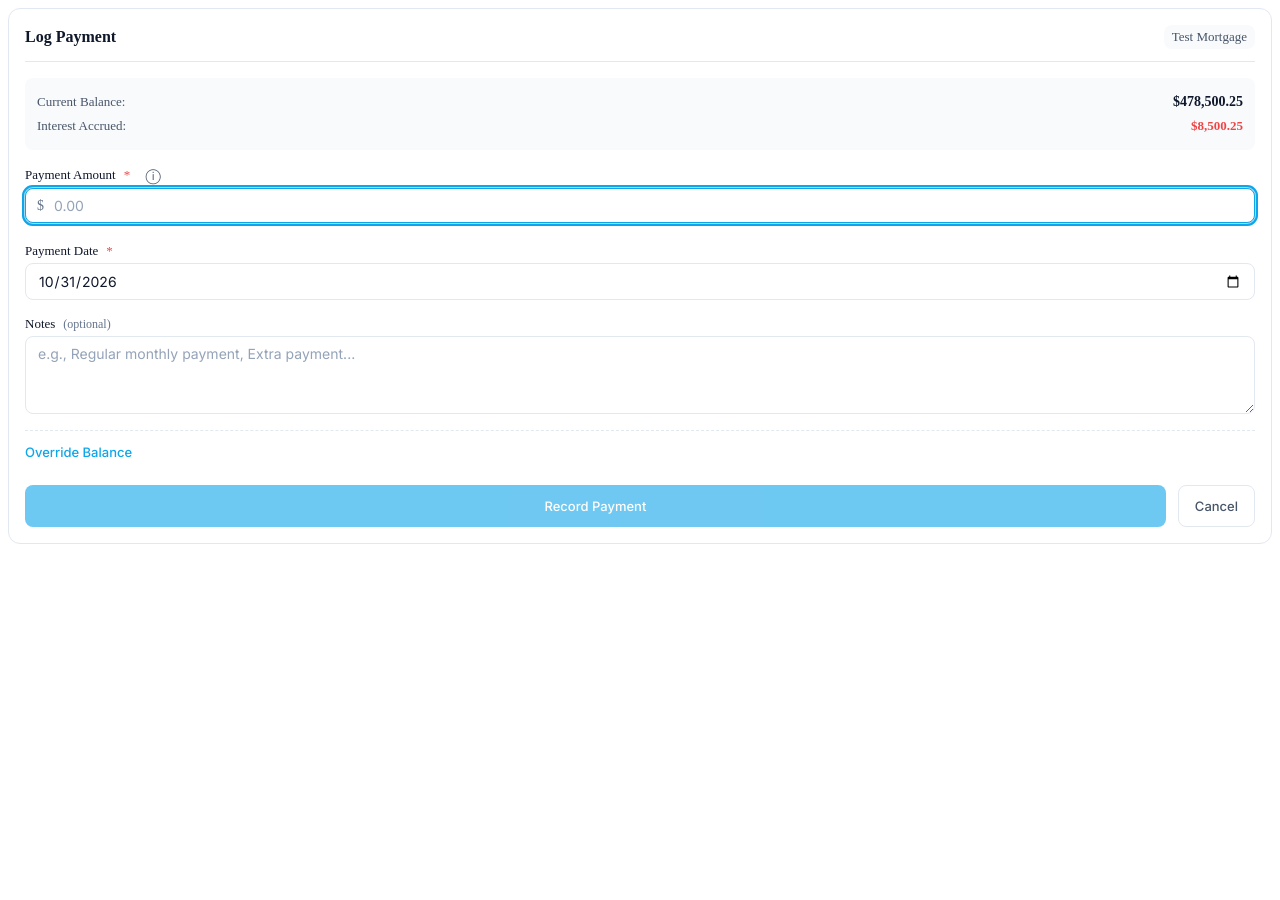
LoanPaymentForm › Mortgage Balance Override and Interest Display › should reveal override input when Override Balance button is clicked
// Click to reveal override section
Click the button "Override Balance" at (79, 452), box [25,444,132,460]
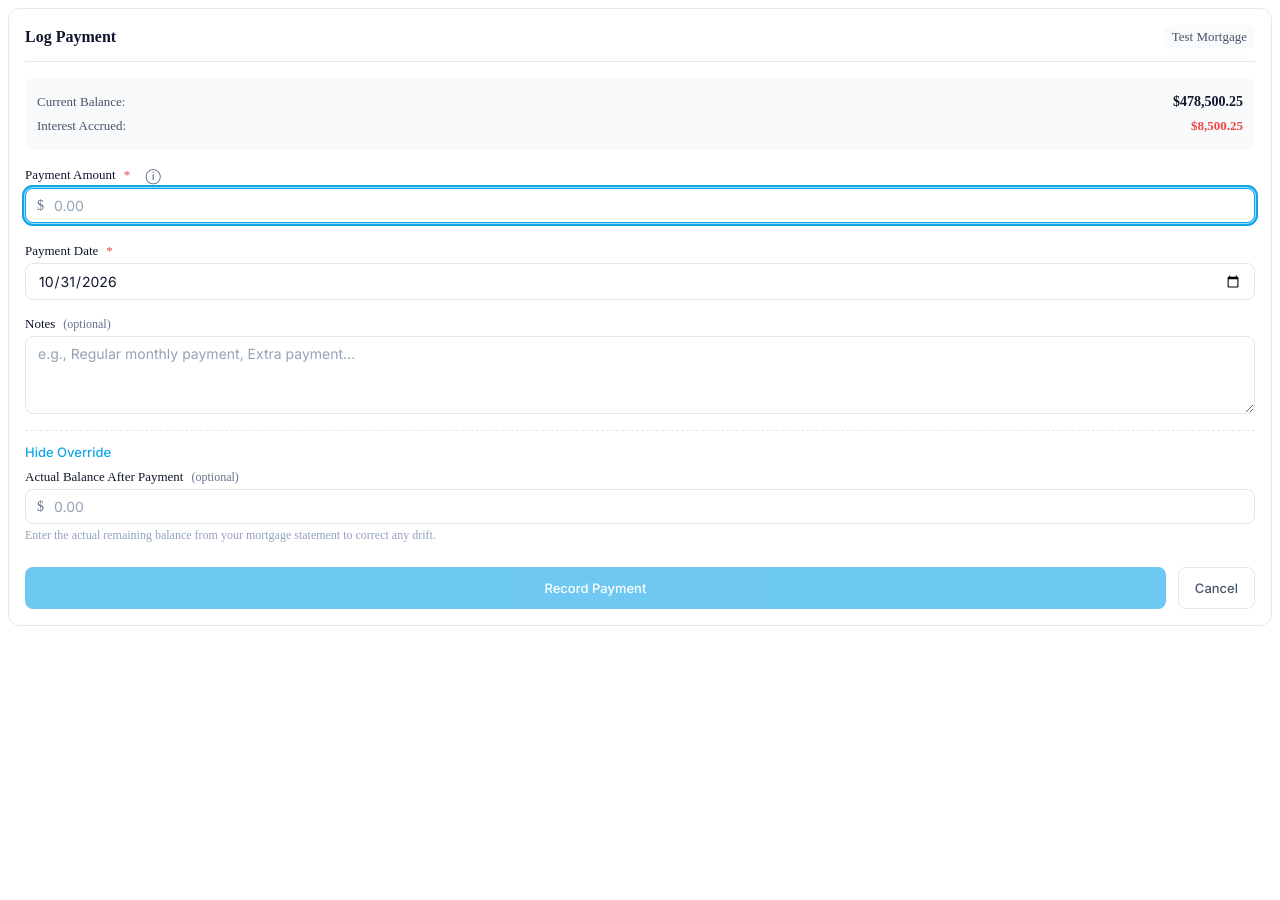
Now the field labelled "Actual Balance After Payment (optional)" is shown, box [25,489,1255,524]
Now the text "Enter the actual remaining balance from your mortgage statement" is shown, box [25,528,436,542]
Now the button "Hide Override" is shown, box [25,444,111,460]
